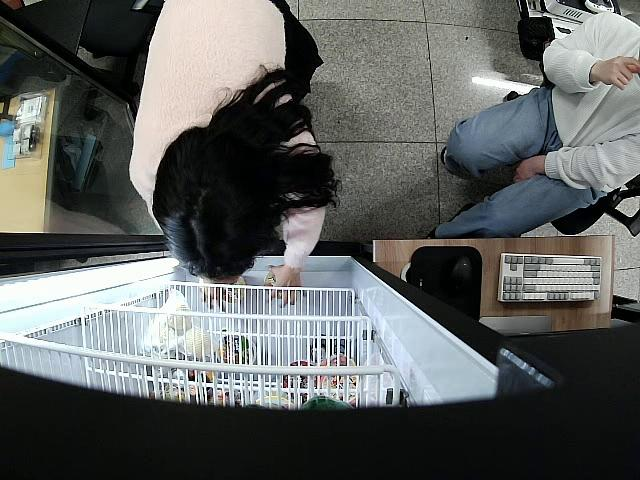00_hand: (594, 55, 640, 91), (268, 263, 302, 308)
04_chapagetti_S: (260, 271, 288, 303), (227, 271, 251, 307)
